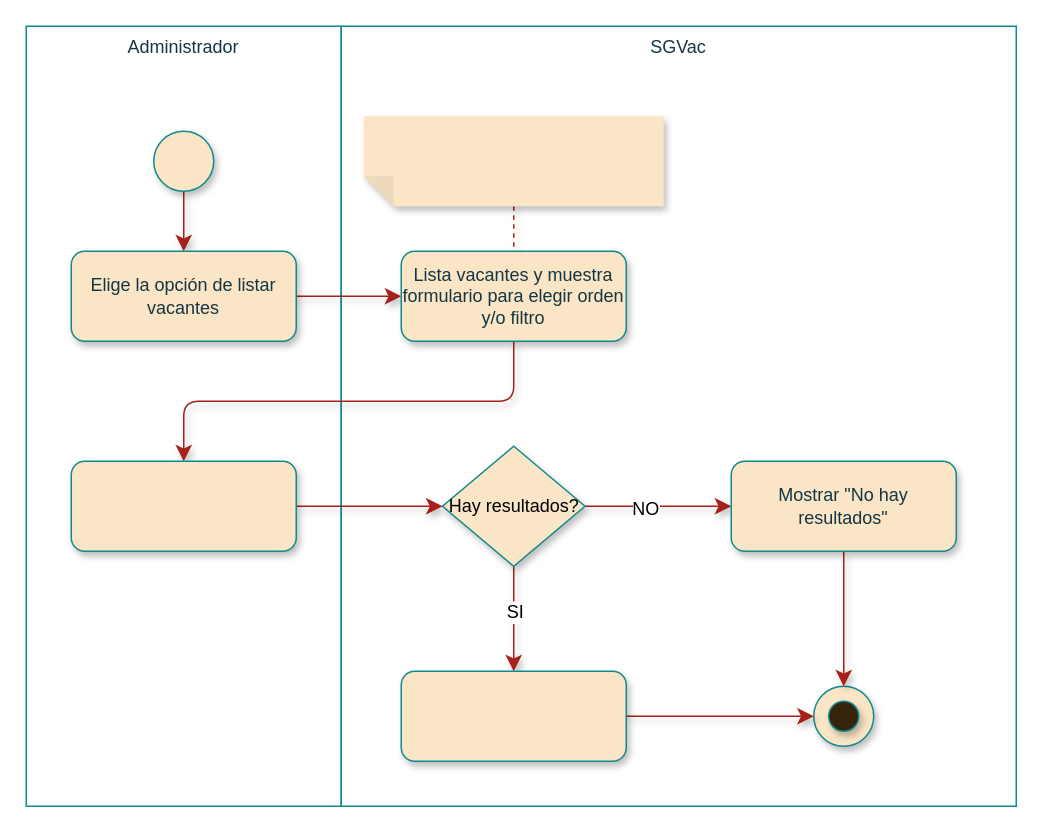
Some shapes in this 1043 by 833 pixel diagram are drawn without their labels. Here are the shapes that lost their labels. From the top down, the centre of each, then its label:
At pixel 514 163: "Orden, título, localidad, fecha de publicación, fecha de cierre y estado".
At pixel 184 508: "Elige orden, filtro y página".
At pixel 514 718: "Se muestra los resultados con opcion a operar con ellos".
